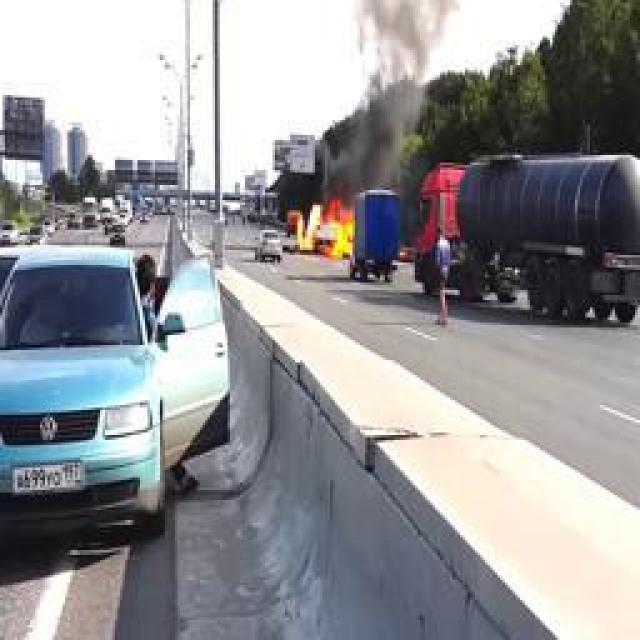Fire: (288, 199, 356, 259)
